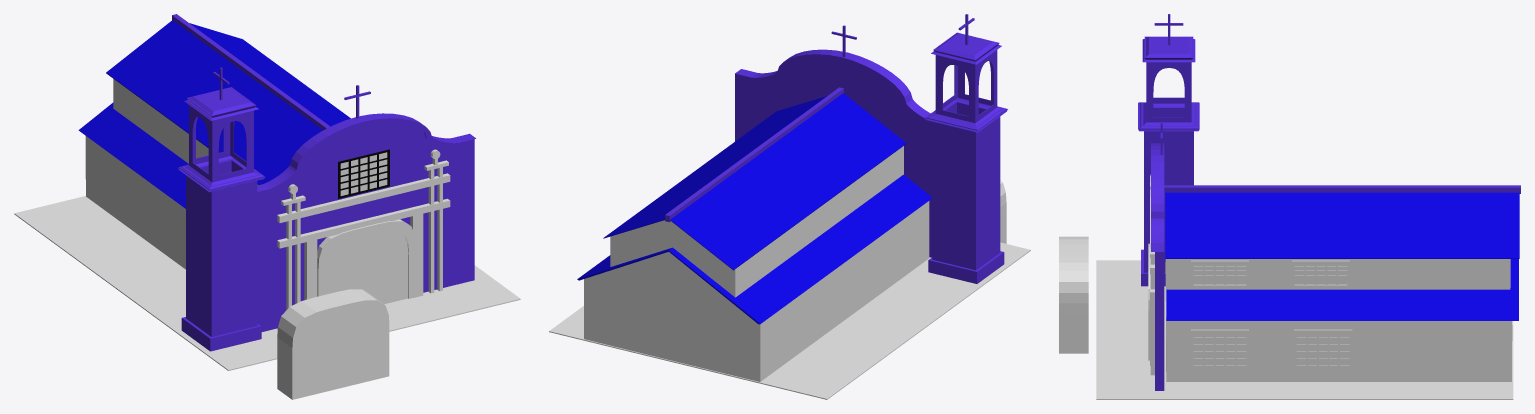
File: Church 7 .fbx
The picture shows the model from 3 angles, left to right: view 1: azimuth 30°, elevation 25°; view 2: azimuth 150°, elevation 25°; view 3: azimuth 270°, elevation 25°; orthographic projection. The views are drawn at different scales.
Parts seen in each view (by area): view 1: Cube.003, Cube.007, Cube, Cube.010, Cube.020, Cube.002, Cube.025, Cube.009, Cube.004, Cube.008, Cube.019, Cube.014 (+10 smaller); view 2: Cube.002, Cube.007, Cube, Cube.003, Cube.010, Cube.009, Cube.004, Cube.008, Cube.001; view 3: Cube.002, Cube.007, Cube, Cube.009, Cube.020, Cube.010, Cube.003, Cube.001, Cube.004, Plane.005, Plane.004, Cube.008 (+3 smaller).
Boxes of the visible parts, x1,y1,x2,y2 form: Cube.003: (257,113,475,331); Cube.007: (106,20,350,184); Cube: (14,196,520,370); Cube.010: (186,160,257,336); Cube.020: (277,289,389,399); Cube.002: (85,79,258,269); Cube.025: (325,232,408,304); Cube.009: (78,102,188,208); Cube.004: (178,87,265,351); Cube.008: (189,105,253,182); Cube.019: (317,219,415,298); Cube.014: (277,173,450,223); Cube.002: (584,146,929,381); Cube.007: (603,93,906,270); Cube: (549,242,1030,399); Cube.003: (735,49,932,257); Cube.010: (932,102,1000,270); Cube.009: (577,174,932,324); Cube.004: (925,32,1007,283); Cube.008: (935,50,997,123); Cube.001: (665,87,843,222); Cube.002: (1165,259,1512,381); Cube.007: (1165,192,1519,258); Cube: (1096,260,1513,399); Cube.009: (1166,259,1518,320); Cube.020: (1059,236,1088,353); Cube.010: (1144,108,1193,272); Cube.003: (1151,143,1164,390); Cube.001: (1164,185,1520,193); Cube.004: (1138,36,1199,286); Plane.005: (1294,329,1352,367); Plane.004: (1191,329,1248,367); Cube.008: (1146,62,1191,122).
Size of the model in its own units: 865 by 832 by 1217.
